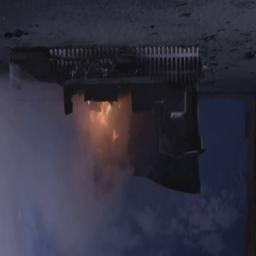fire: (74, 92, 127, 168)
smoke: (1, 150, 115, 255)
